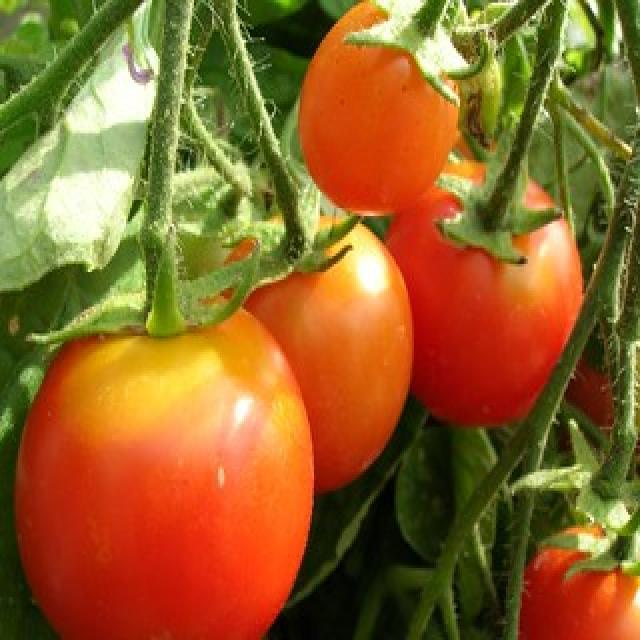sari: (20, 324, 318, 640)
